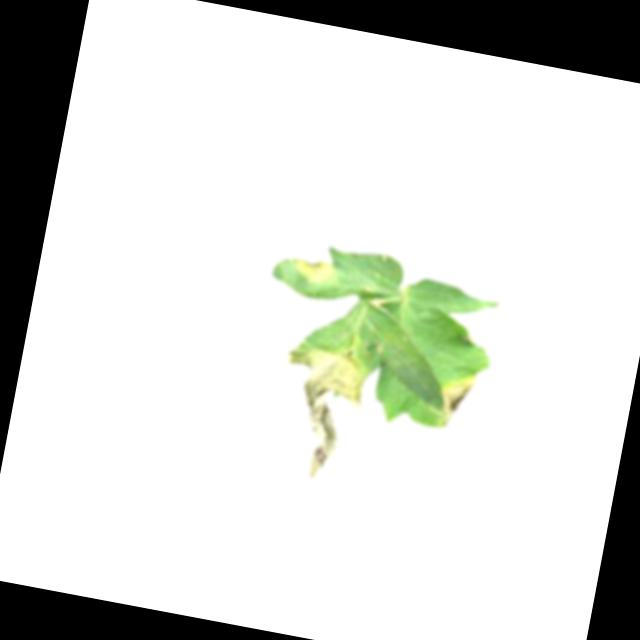Late_blight: (263, 335, 375, 488), (431, 373, 478, 434), (286, 247, 344, 289)
